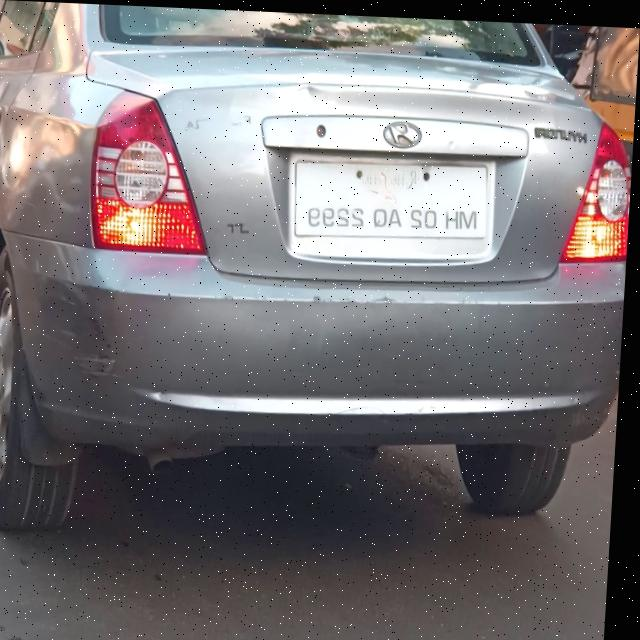plate: (293, 149, 497, 242)
